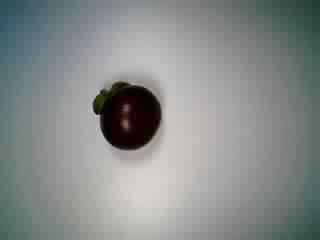mangosteen: (87, 72, 164, 149)
